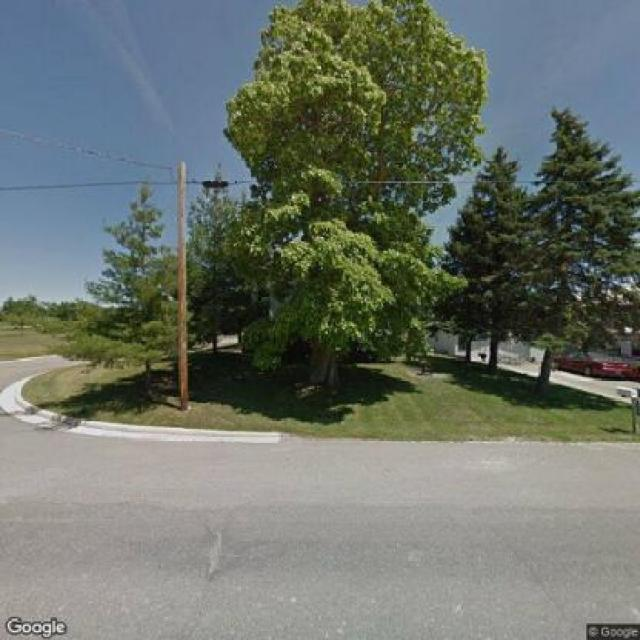pole: (162, 162, 222, 404)
